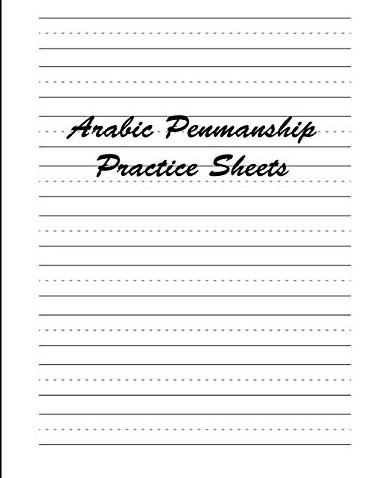text: (64, 112, 320, 146), (94, 152, 292, 180)
